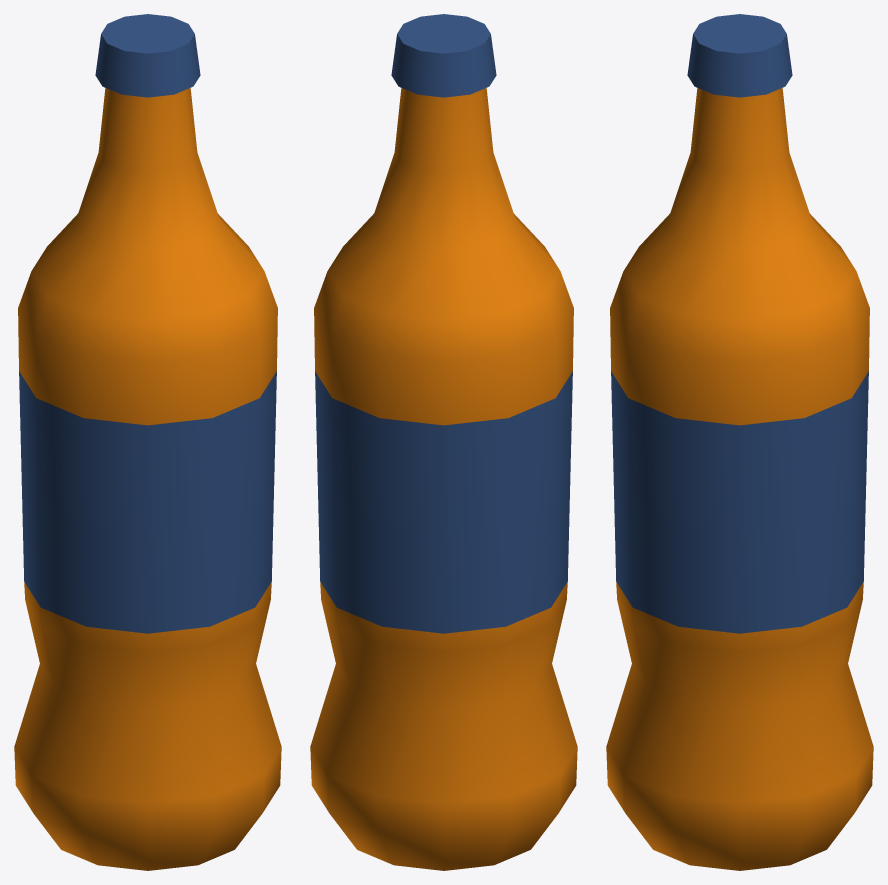
Rendered from SodaBottleVar2.fbx.
The picture shows the model from 3 angles, left to right: view 1: azimuth 30°, elevation 25°; view 2: azimuth 150°, elevation 25°; view 3: azimuth 270°, elevation 25°; orthographic projection.
Parts seen in each view (by area): view 1: SodaBottle_02; view 2: SodaBottle_02; view 3: SodaBottle_02.
Part boxes in pixels (x1,y1,x2,y2): SodaBottle_02: (14,14,281,870); SodaBottle_02: (310,14,577,870); SodaBottle_02: (606,14,873,870).
Size of the model in its own units: 0.1076 by 0.1076 by 0.3529.
